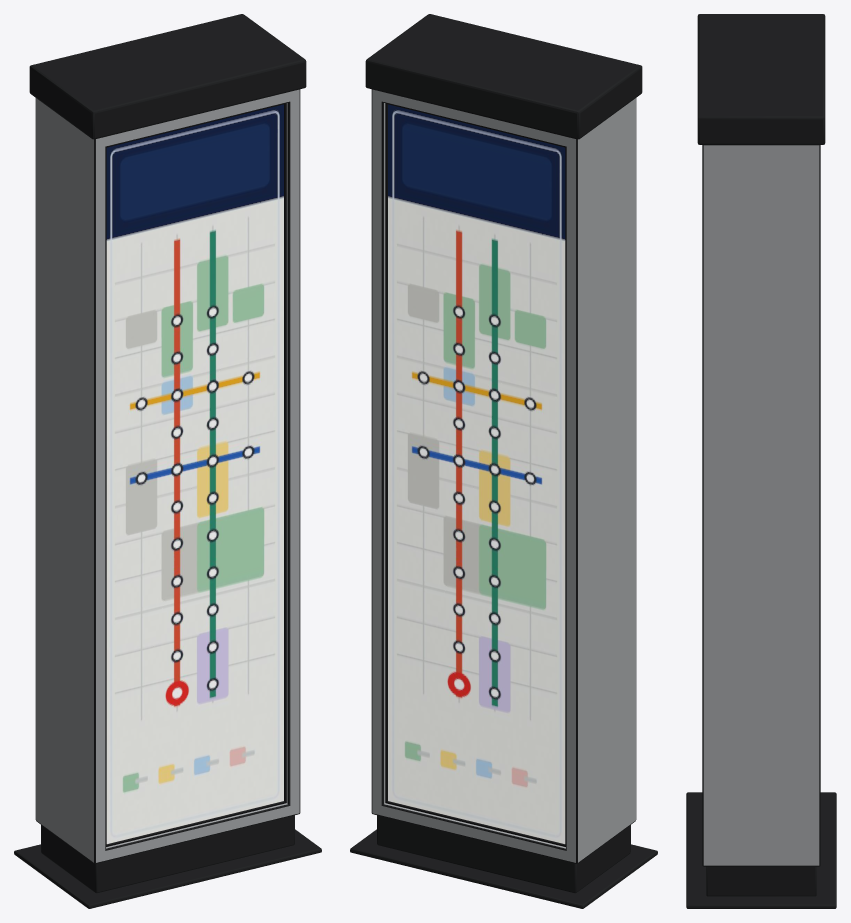
The model's file is gteki_sign_totem.glb.
The picture shows the model from 3 angles, left to right: view 1: azimuth 30°, elevation 25°; view 2: azimuth 150°, elevation 25°; view 3: azimuth 270°, elevation 25°; orthographic projection.
Parts seen in each view (by area): view 1: VIS_faces, VIS_frame, VIS_base; view 2: VIS_faces, VIS_frame, VIS_base; view 3: VIS_frame, VIS_base.
Part boxes in pixels (x1,y1,x2,y2): VIS_faces: (106, 104, 283, 844); VIS_frame: (29, 14, 306, 863); VIS_base: (14, 815, 321, 908); VIS_faces: (388, 104, 565, 844); VIS_frame: (365, 14, 642, 863); VIS_base: (350, 815, 657, 908); VIS_frame: (697, 14, 825, 866); VIS_base: (686, 792, 836, 908).
Size of what is drawn, in the model's own units: 0.68 by 2.2 by 0.38.
4 materials, 1 textured.
